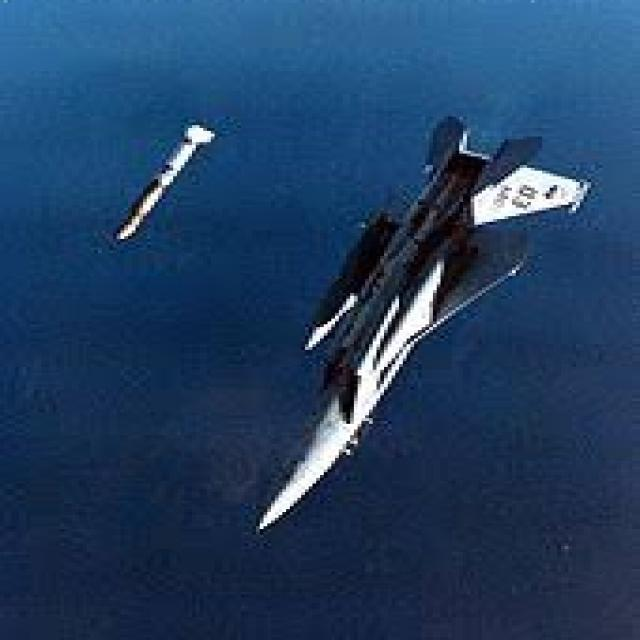missile: (113, 114, 218, 247), (298, 213, 392, 360)
